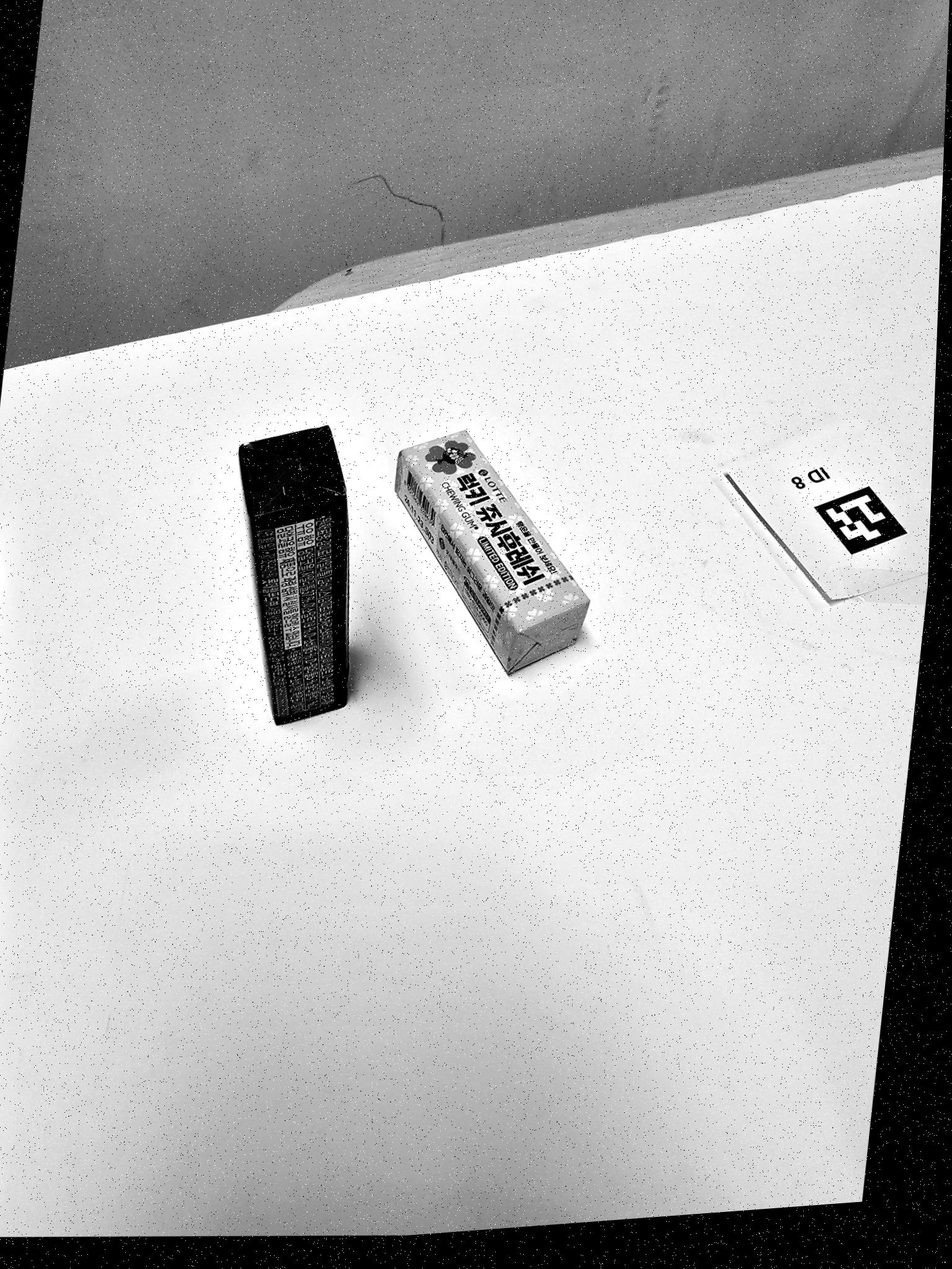gum_green: (239, 426, 348, 724)
